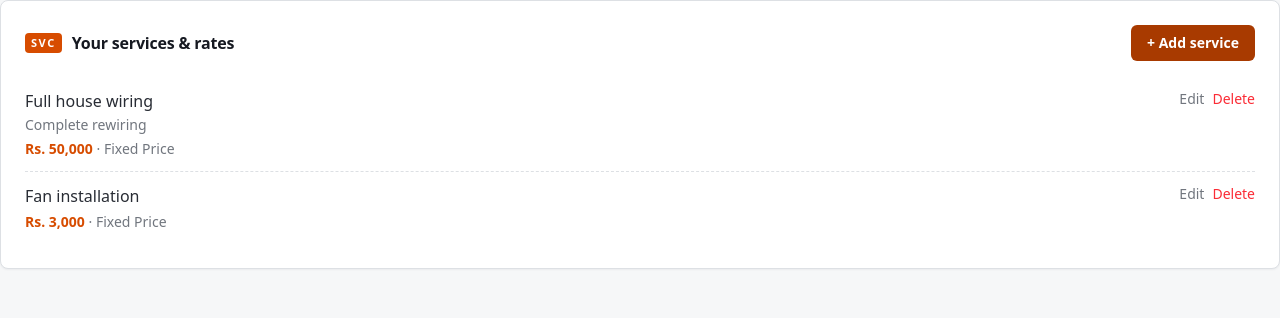
Scenario: ServicesManager › shows the server error when the delete fails and keeps the service
Click the button "Delete" in the row of "Full house wiring" at (1234, 99), box 1212,89 -> 1255,109
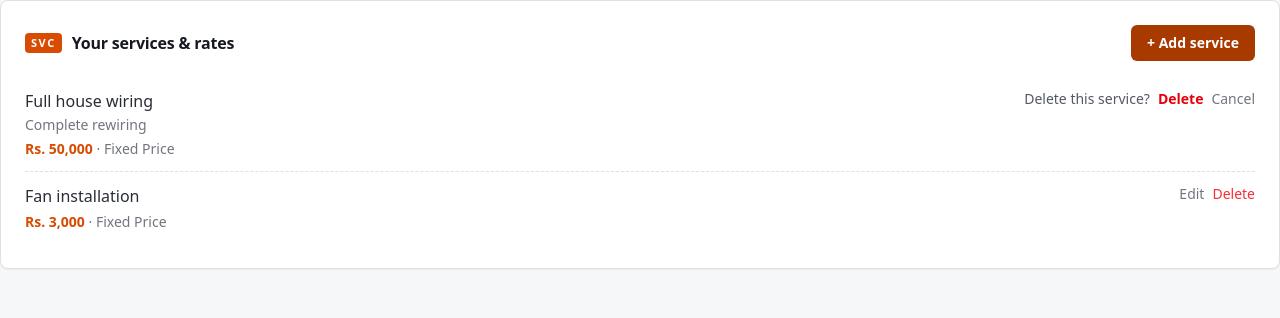
Click the button "Delete" next to "Delete this service?" at (1181, 99), box 1158,89 -> 1203,109
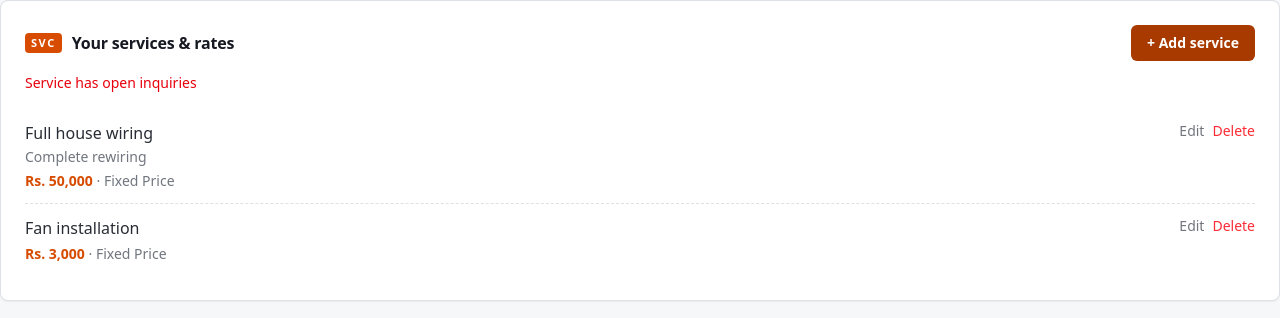
Expected: the text "Full house wiring" is shown, 25,121 -> 174,145
Expected: the message reads "Service has open inquiries", 25,73 -> 197,92
